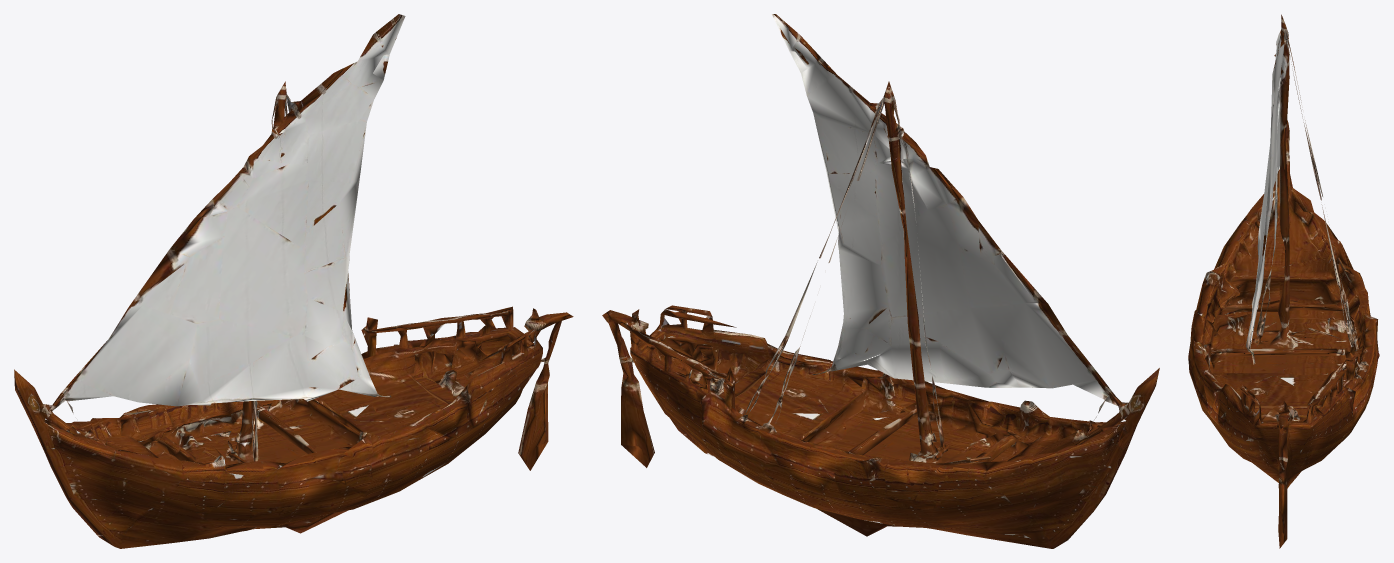
The model's file is dhow.glb.
3 views of the same model, side by side, from view 1: azimuth 30°, elevation 25°; view 2: azimuth 150°, elevation 25°; view 3: azimuth 270°, elevation 25° (orthographic). The views are drawn at different scales.
Visible parts, largest first — view 1: Mesh_0; view 2: Mesh_0; view 3: Mesh_0.
Part boxes in pixels (x1,y1,x2,y2): Mesh_0: (14, 14, 573, 548); Mesh_0: (602, 14, 1159, 548); Mesh_0: (1188, 14, 1379, 548).
Bounding box in the file's own units: 15.9 × 13.54 × 5.
1 material, 1 textured.
